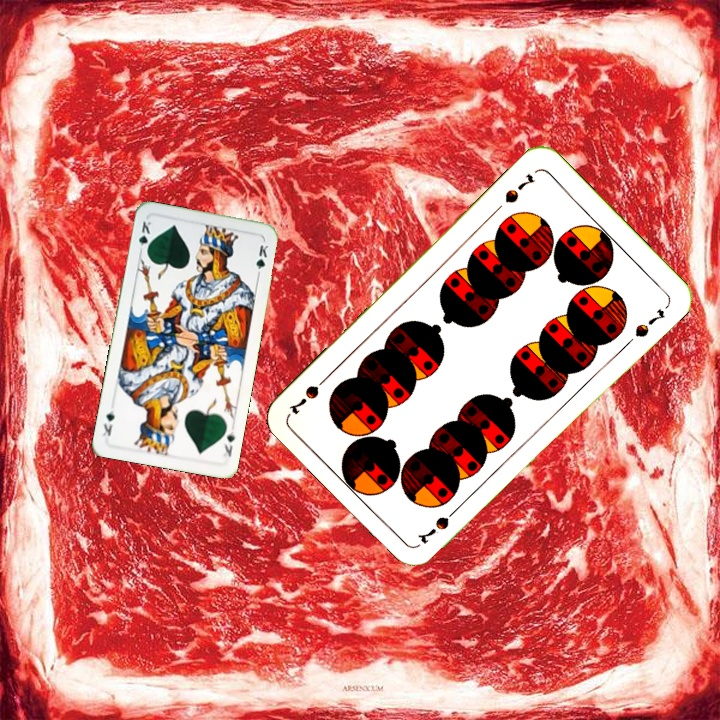GK: (135, 217, 153, 257), (219, 427, 237, 459)
S7: (414, 502, 463, 547), (500, 170, 537, 206)
